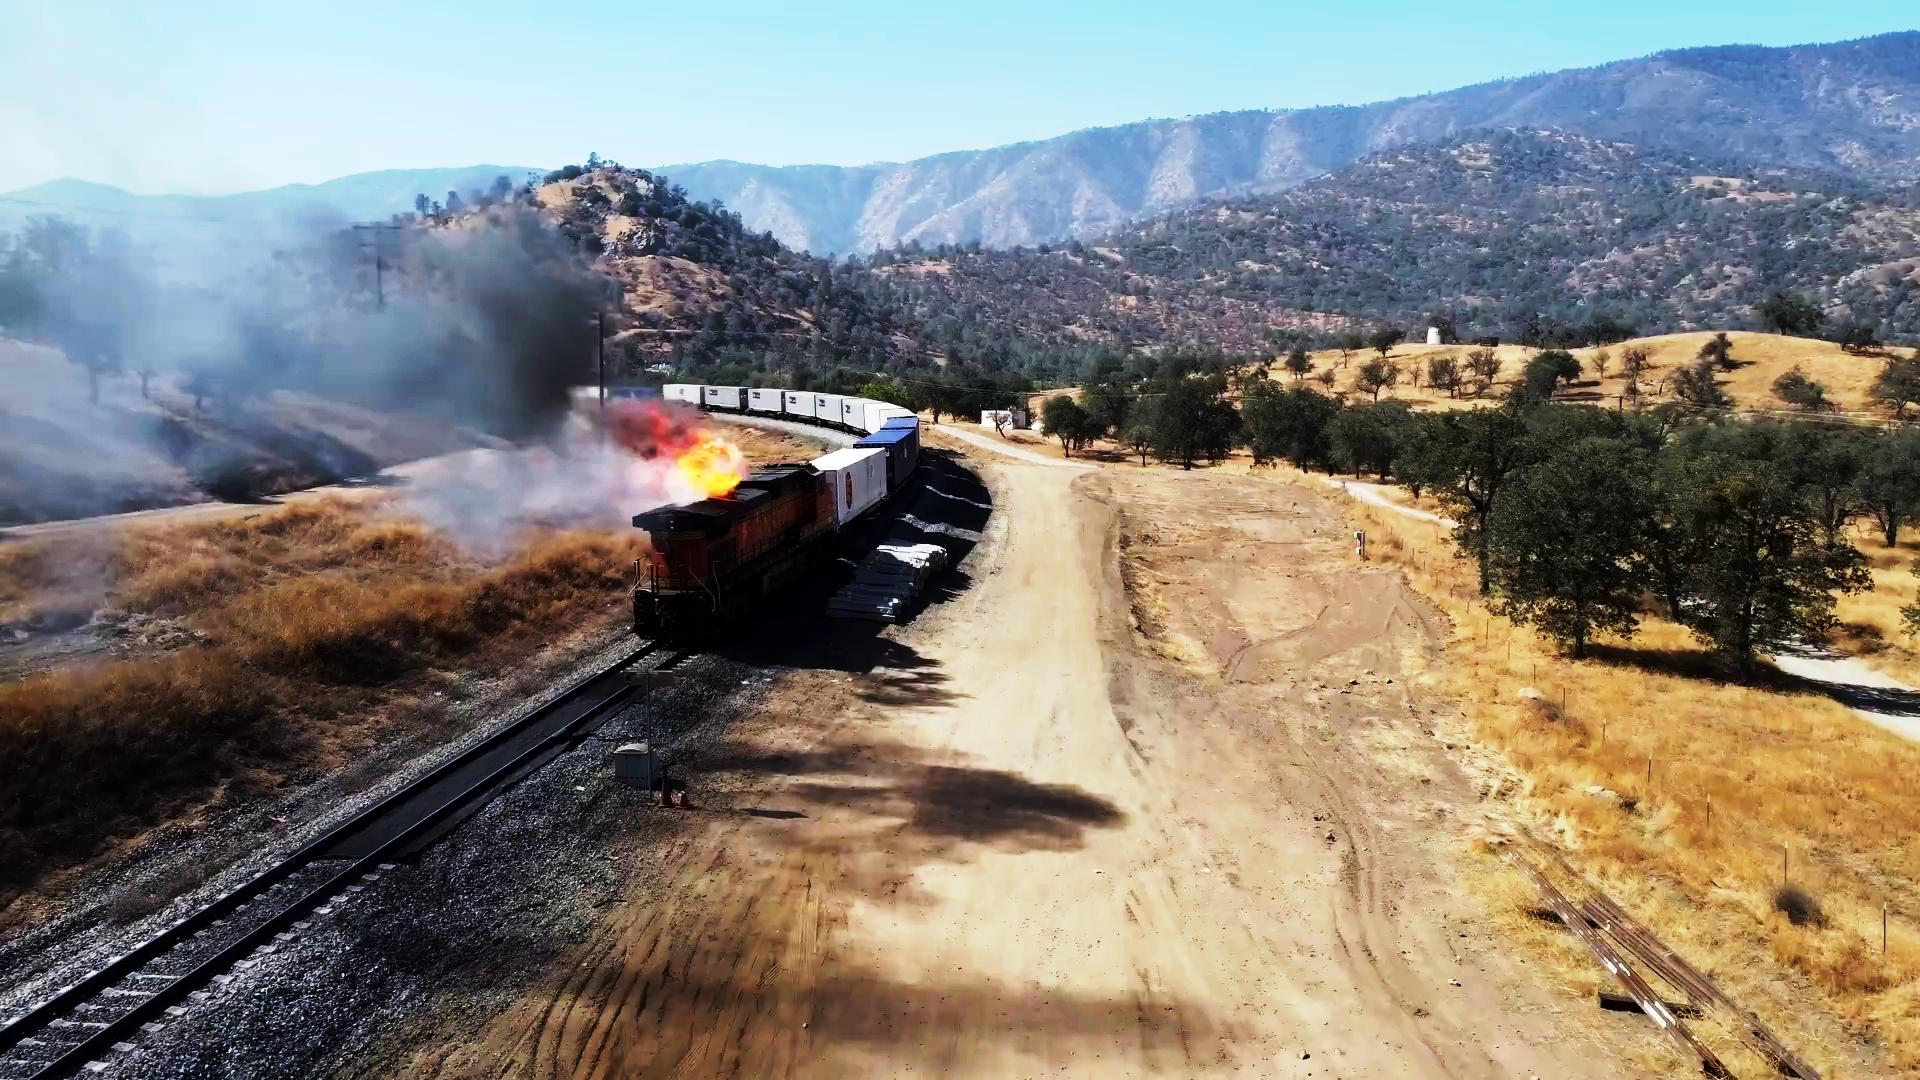fire: (647, 435, 738, 501)
smoke: (429, 248, 591, 436)
